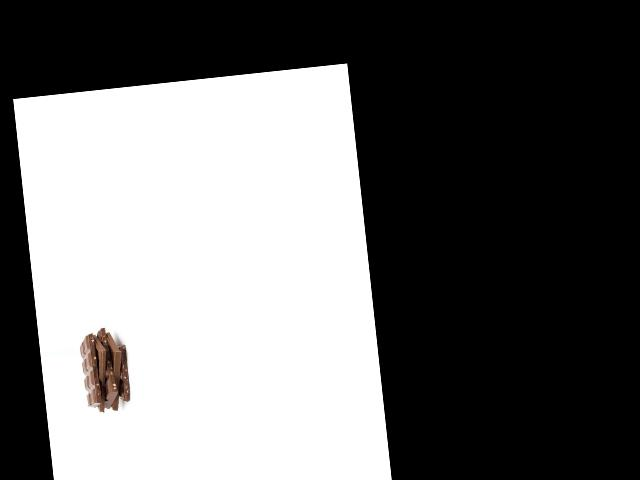chocolate: (97, 330, 136, 410)
